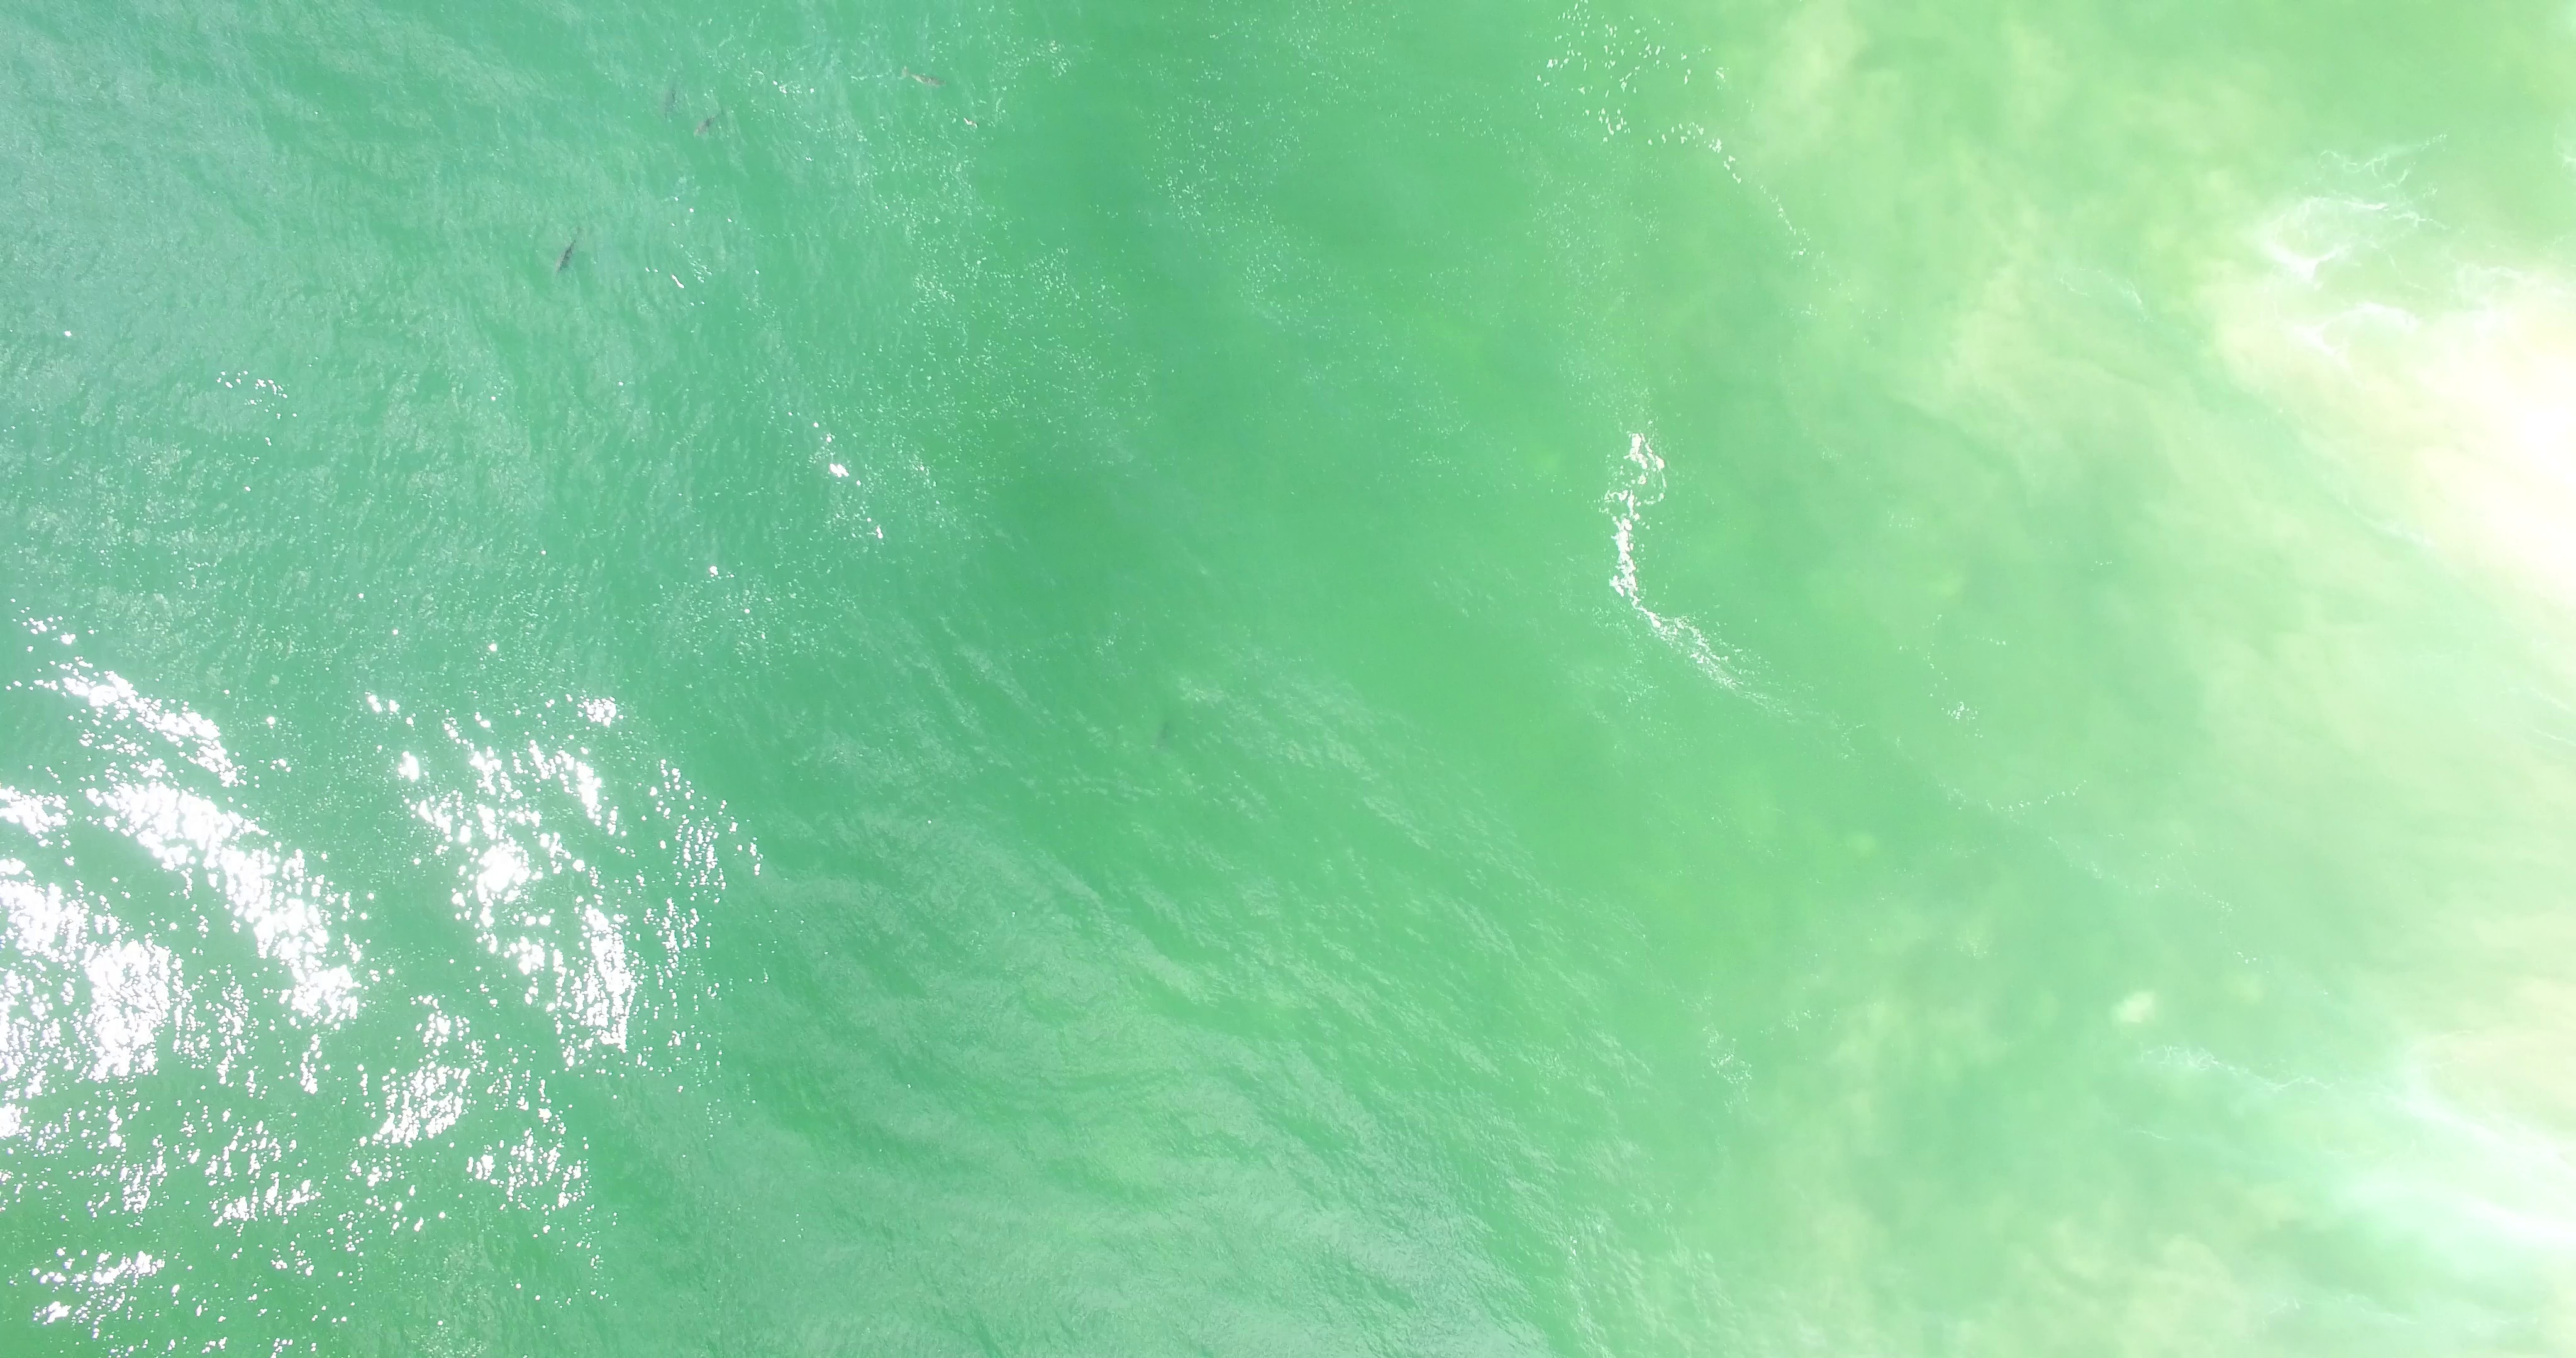dolphin: (550, 230, 583, 278), (901, 65, 949, 89), (659, 70, 681, 116), (695, 106, 729, 135)
